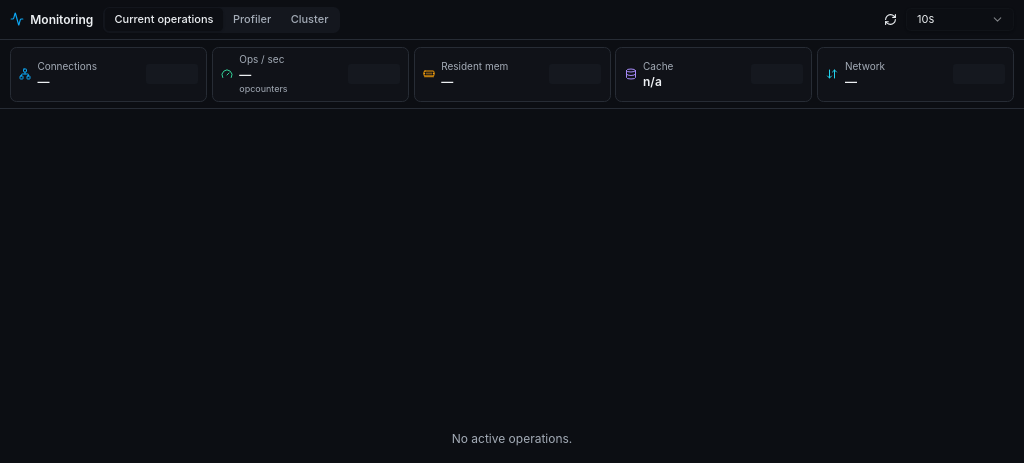
Test: MonitoringView › shows a sharded-cluster notice for mongos connections
Step 1. Click the tab with test id "mon-tab-cluster" → (310, 20), box [281,8,338,31]
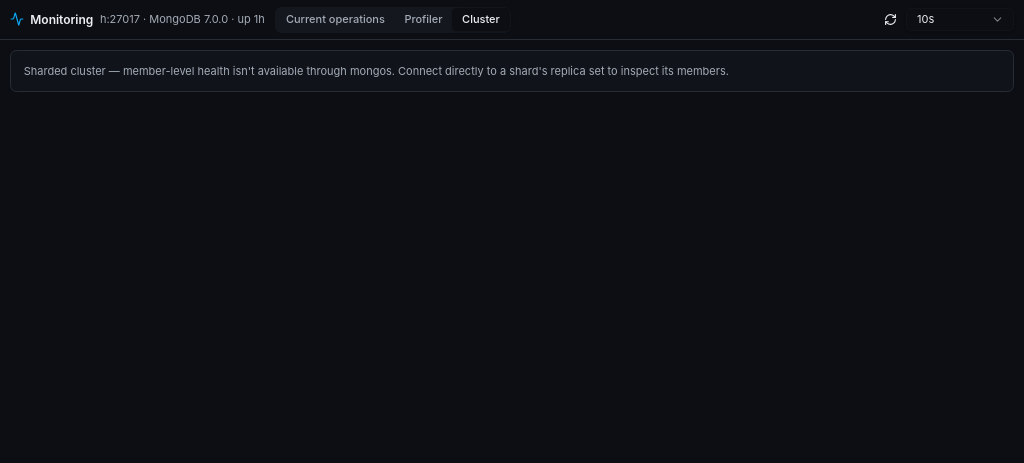
Result: the text with test id "cluster-sharded" is shown at [10,50,1014,92]
